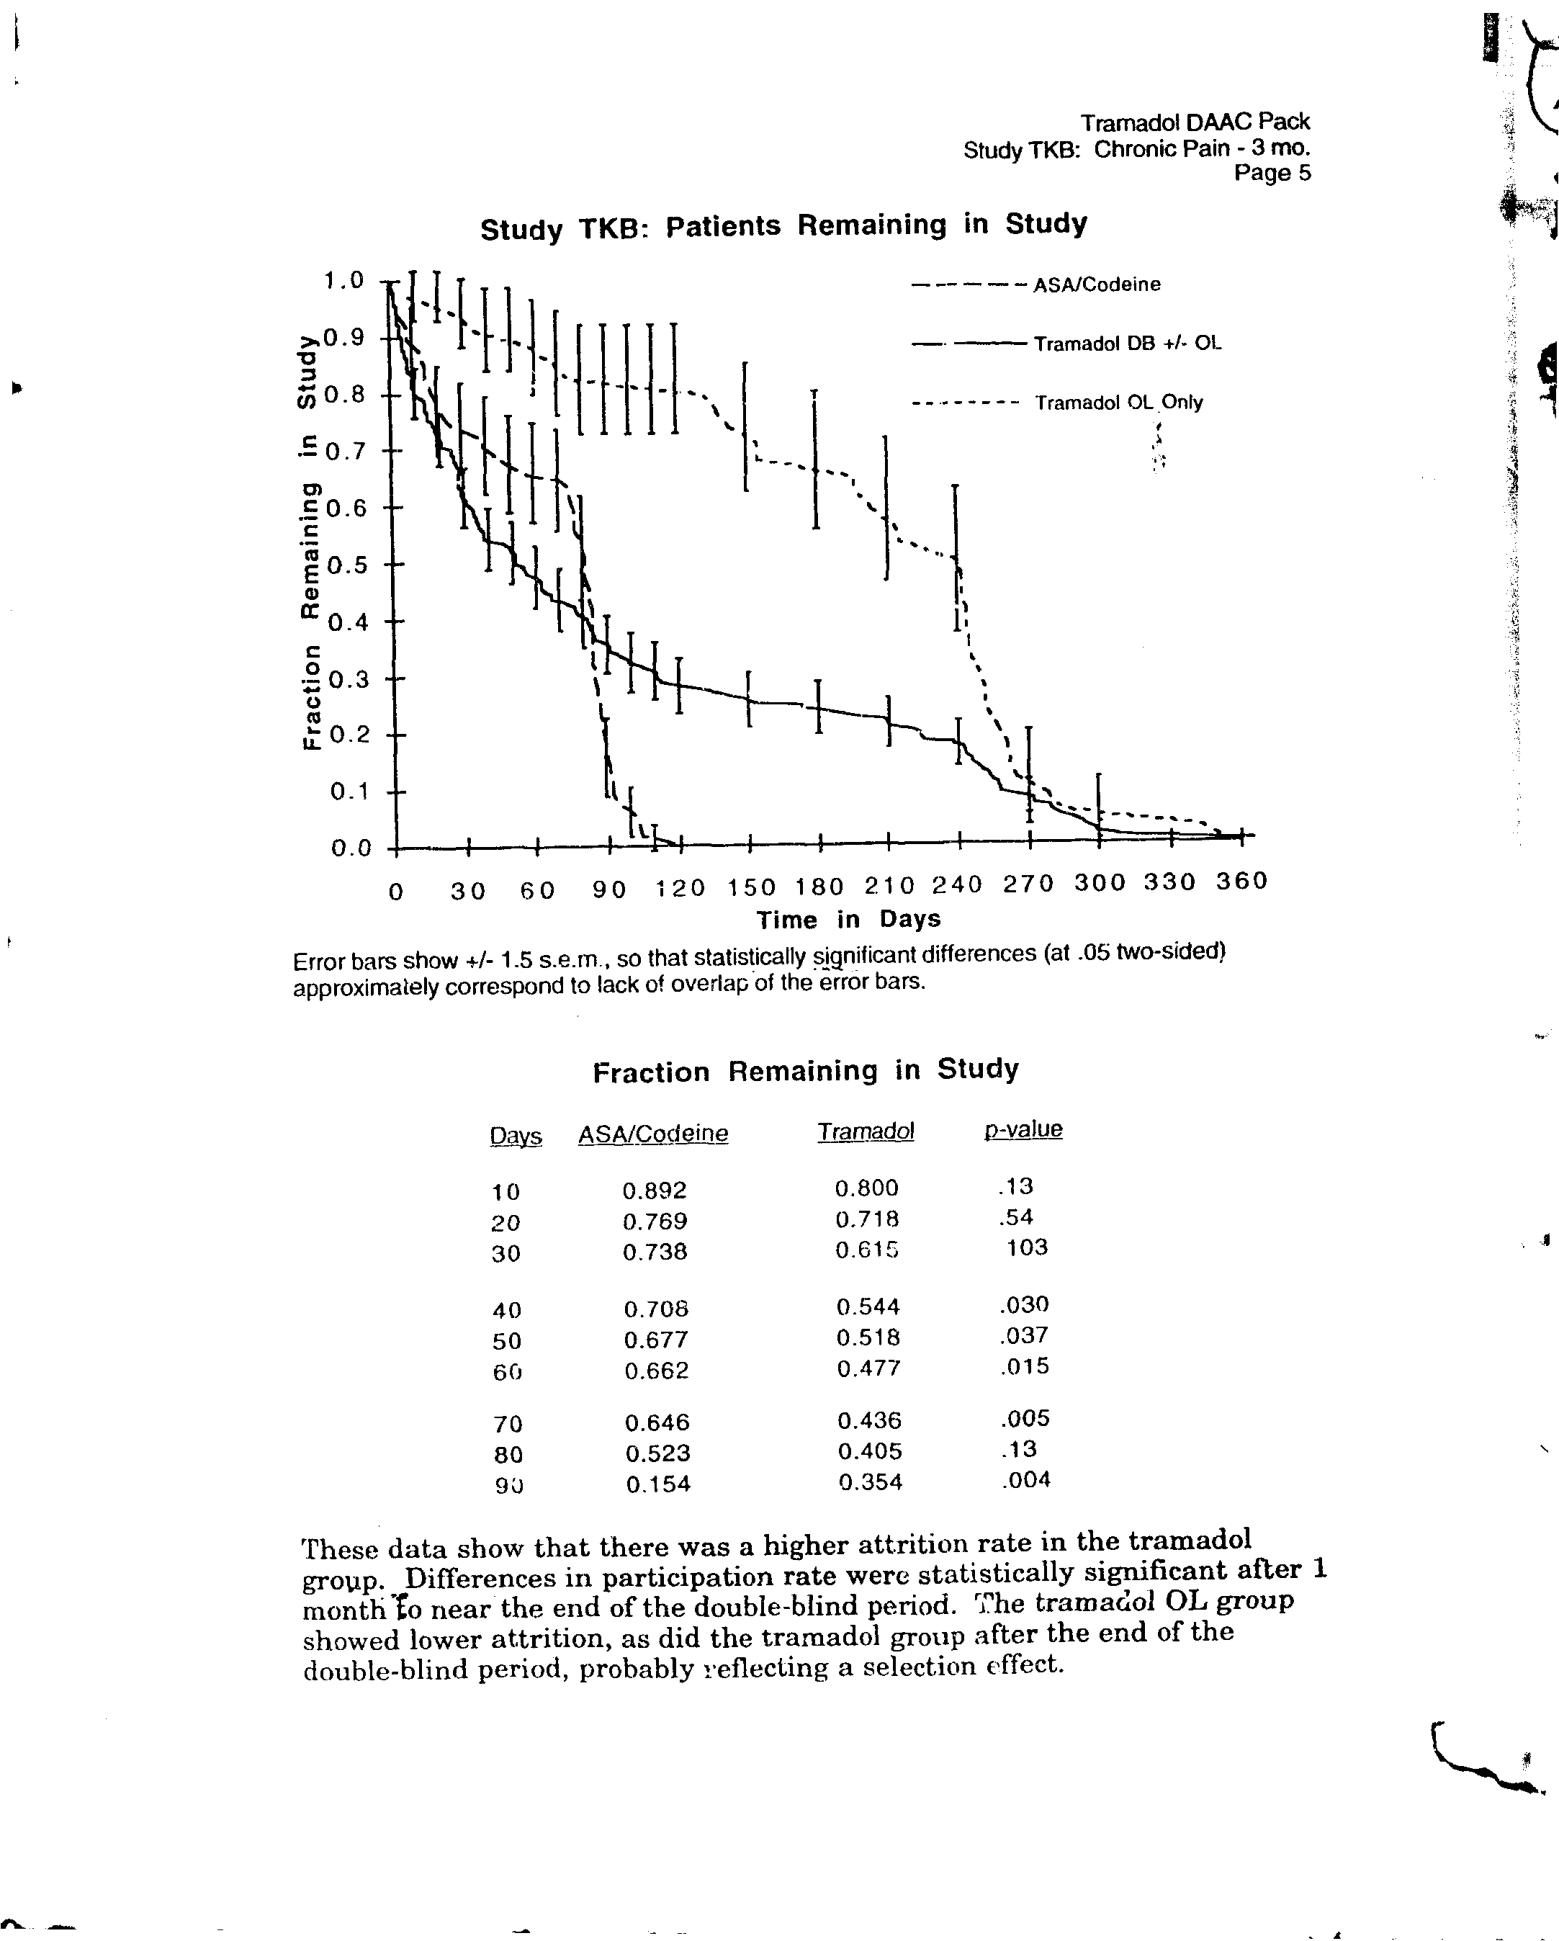nolines: (487, 1120, 1063, 1497)
